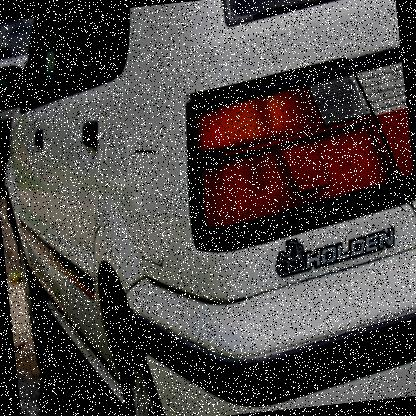Car: (0, 0, 415, 415), (0, 14, 76, 179)
